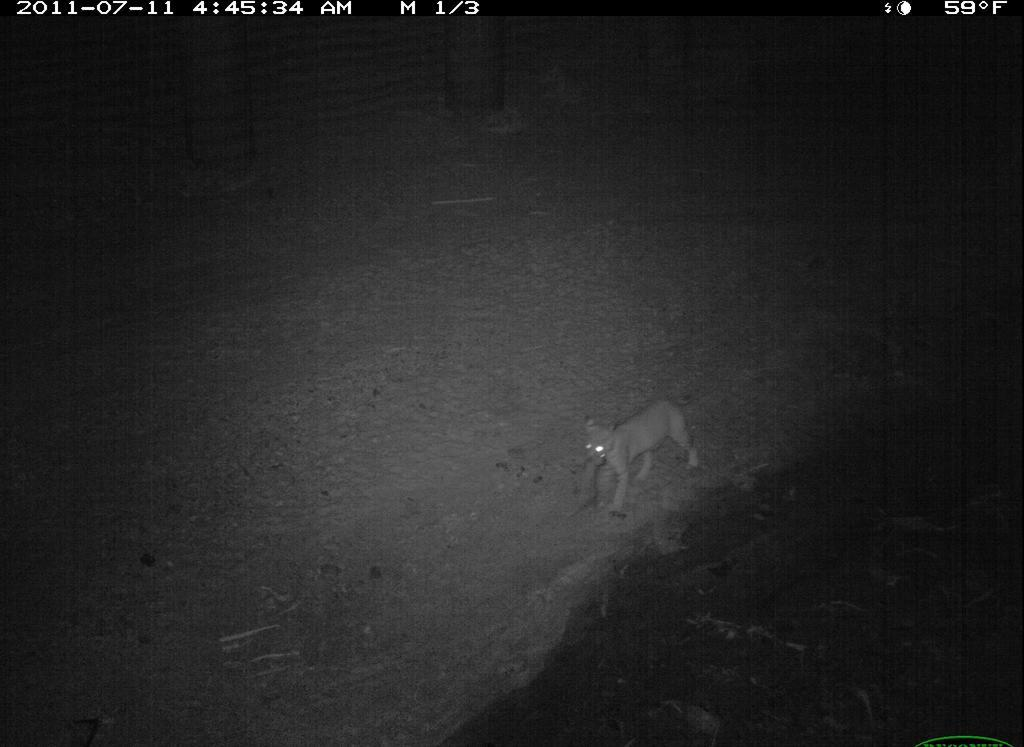bobcat: (564, 383, 715, 530)
